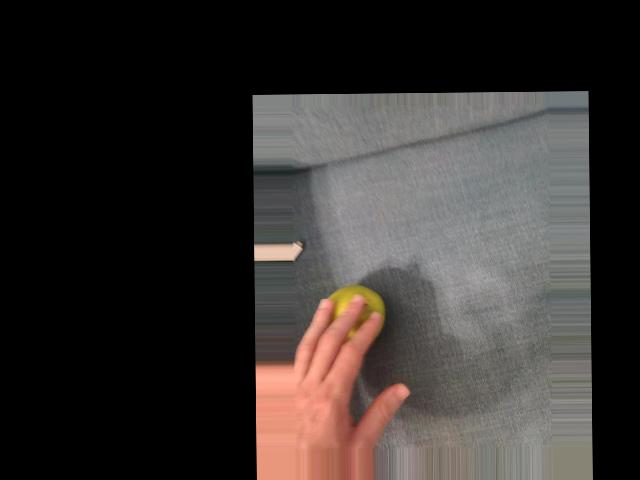apple: (324, 270, 390, 358)
